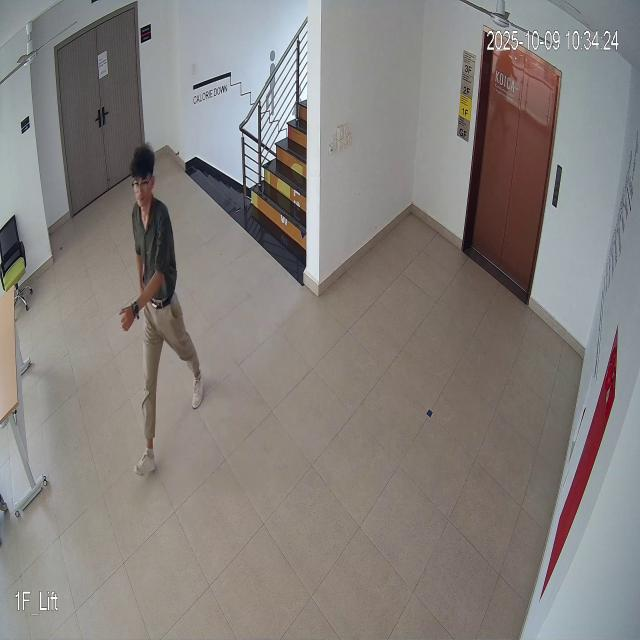face: (128, 135, 163, 211)
